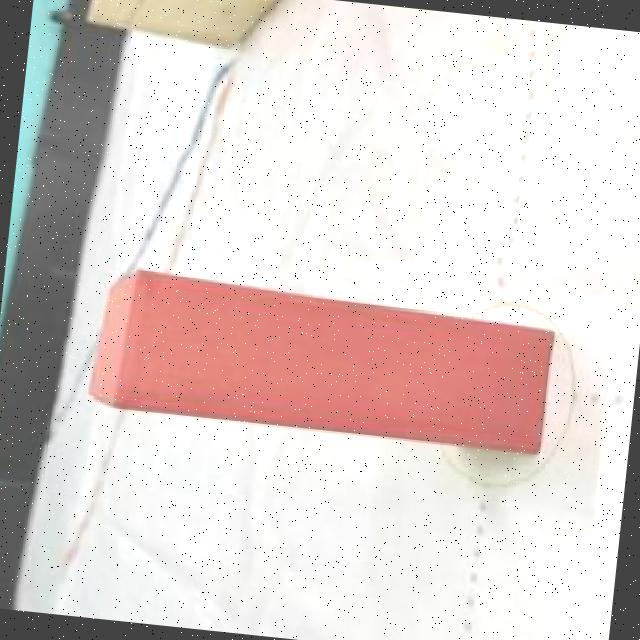redbox: (84, 266, 558, 456)
